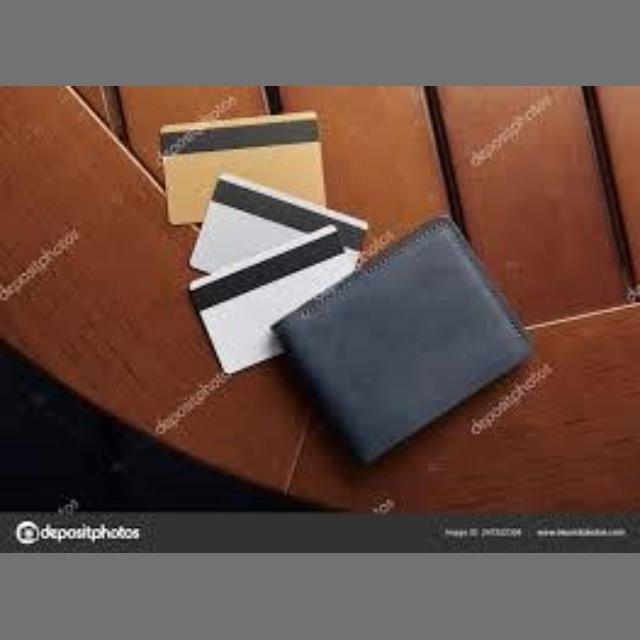Wallet: (262, 214, 566, 473)
